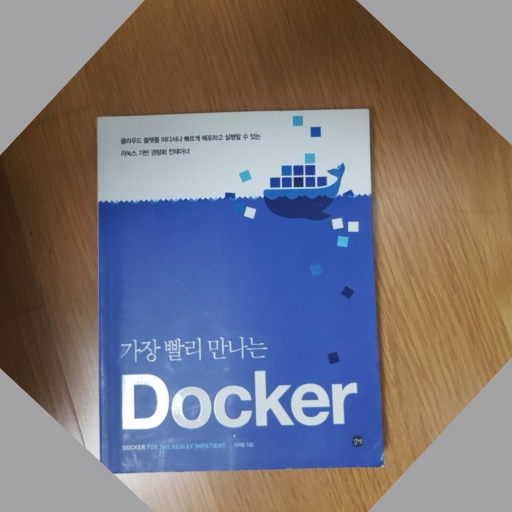Paper_0: (87, 107, 396, 475)
